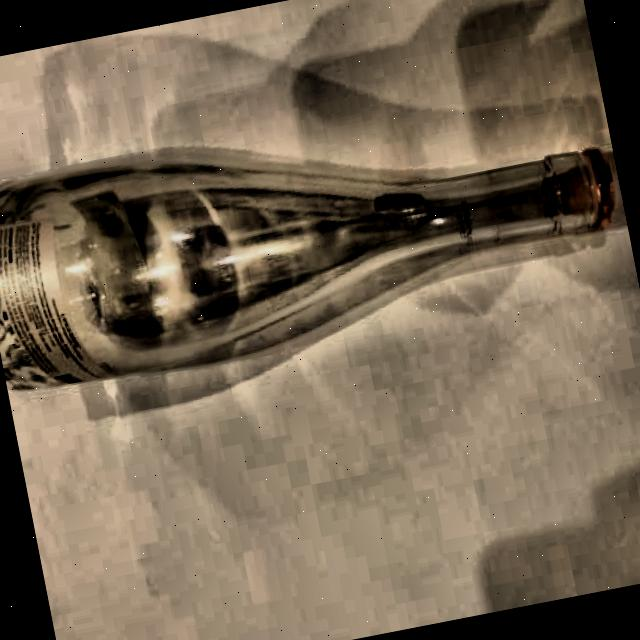glass: (0, 59, 640, 414)
